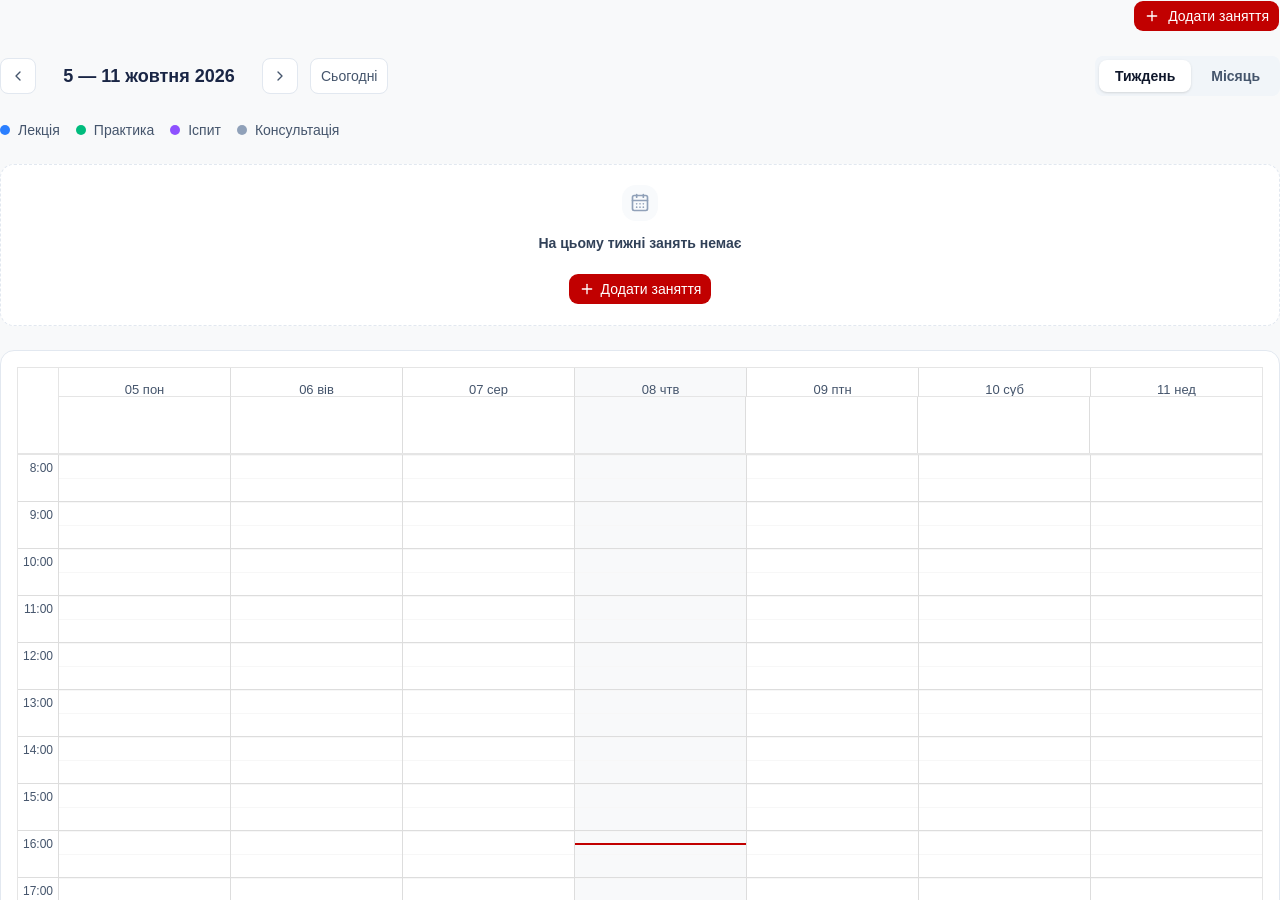
Test: SchedulePage — порожній тиждень і гортання › порожній тиждень пропонує додати заняття
The width and height of the screenshot is (1280, 900).
Expected: the text "На цьому тижні занять немає" is shown, [538,233,742,253]
What coordinates should you click on to do the following:
click the button "Додати заняття" below "На цьому тижні занять немає"
I would click on:
 (640, 289)
Its box is [568,273,712,305].
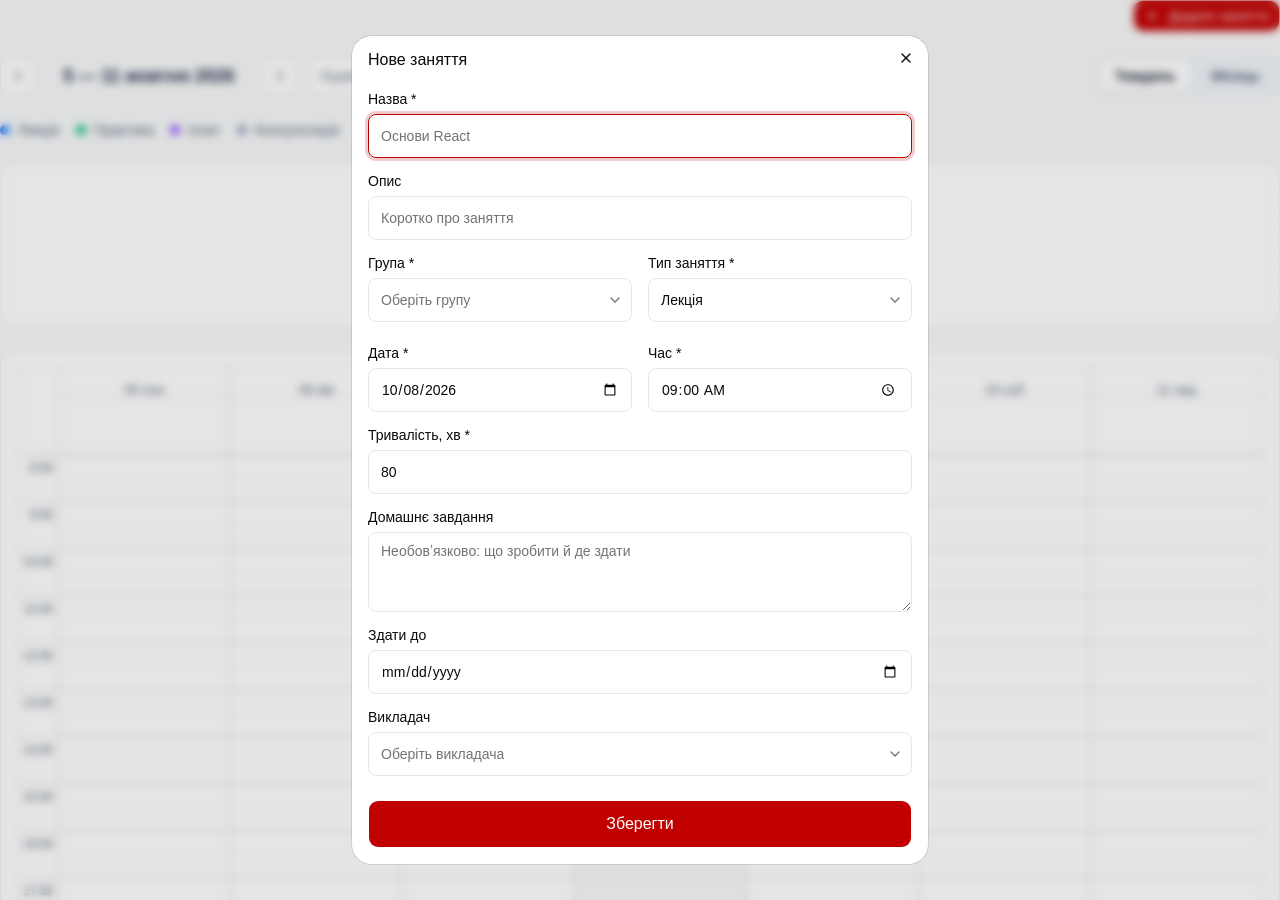
Result: the dialog "Нове заняття" is shown at [352,36,928,864]
